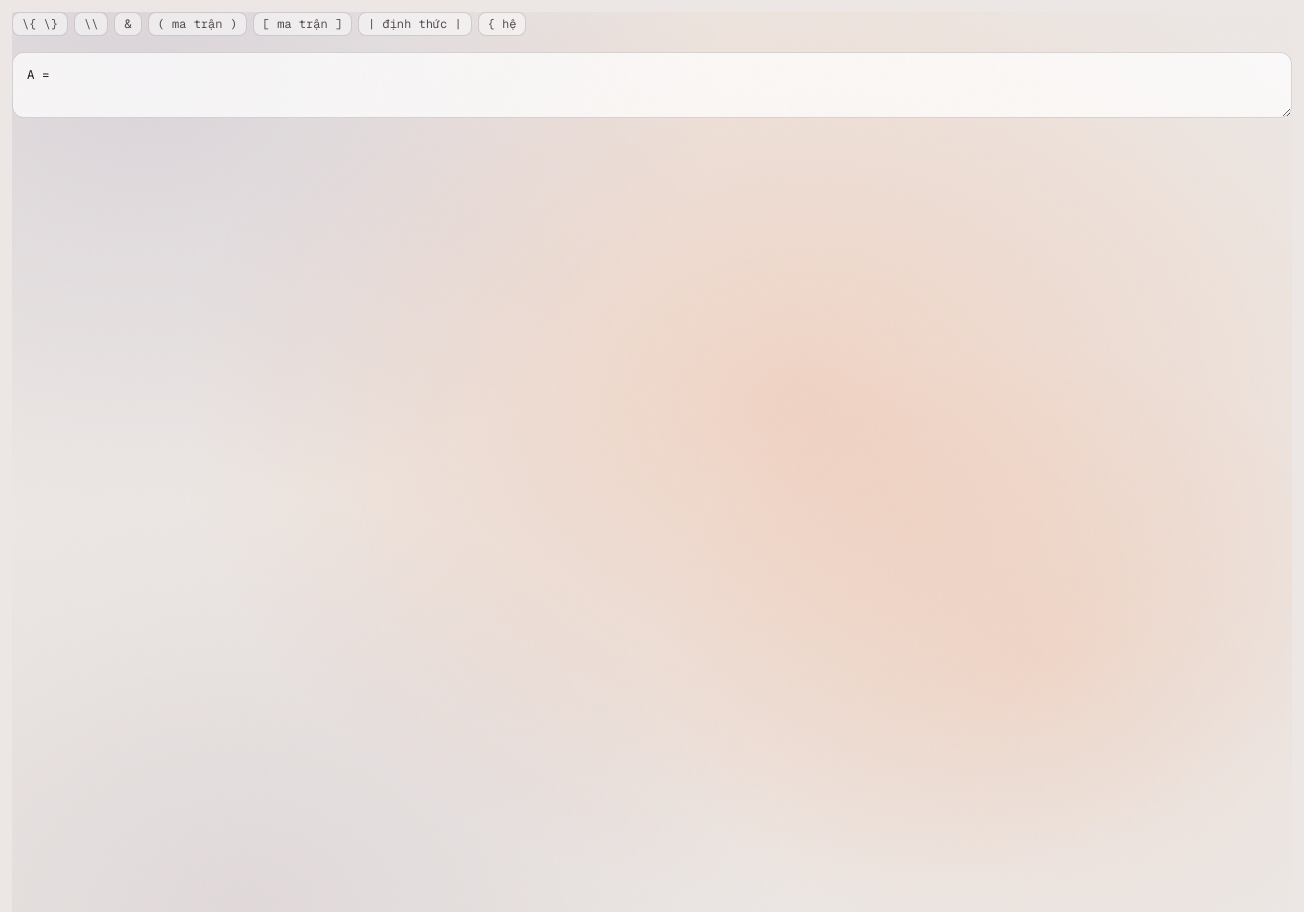
Test: inserts a matrix at the cursor with its first entry selected to type over
Step 1. Click the button with aria-label "Ma trận 2×2 trong ngoặc tròn" → (197, 24), box [148,12,247,36]
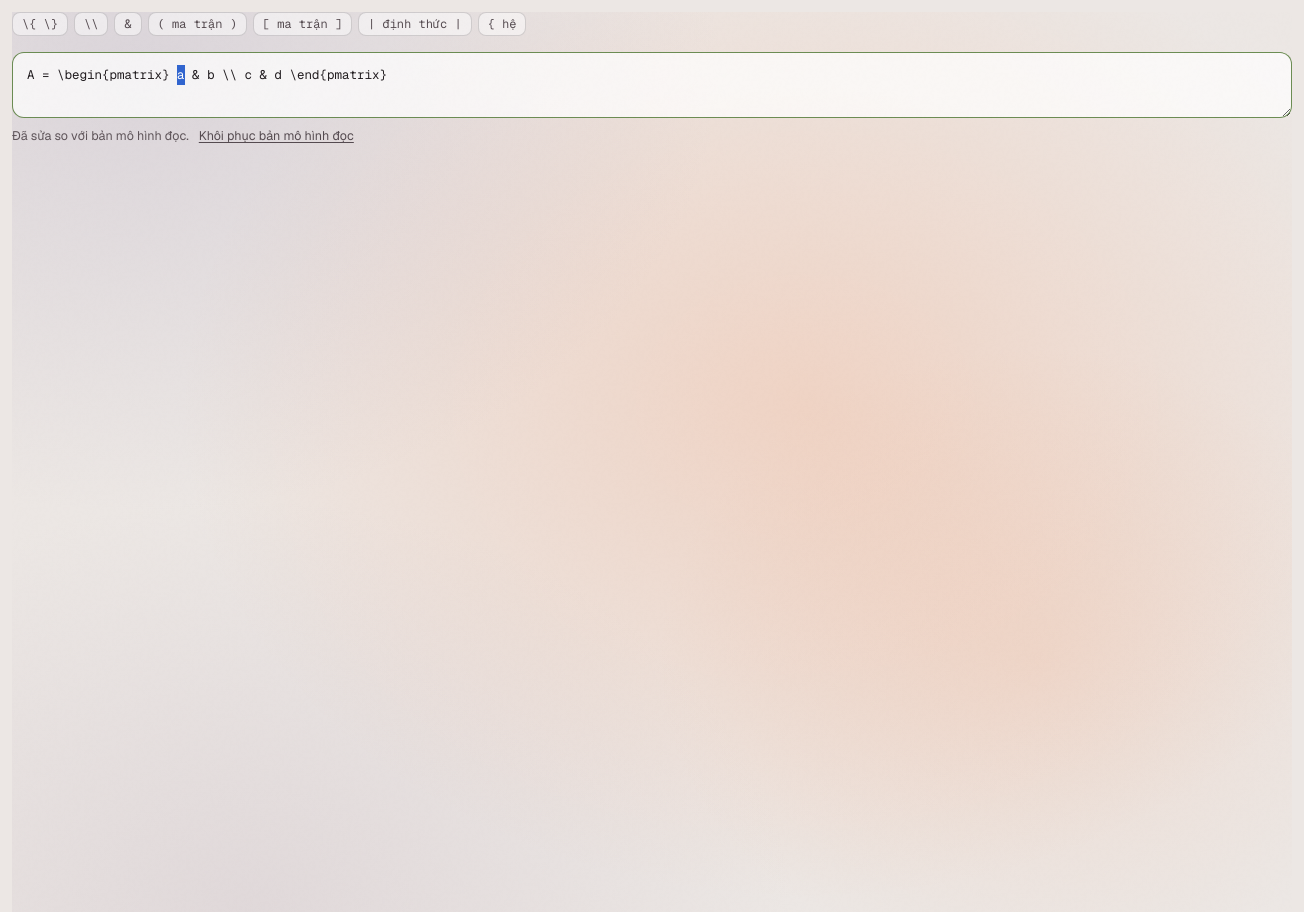
Now the text box named "LaTeX (sửa được)" holds "A = \\begin{pmatrix} a & b \\\\ c & d \\end{pmatrix}", box [12,52,1292,118]
